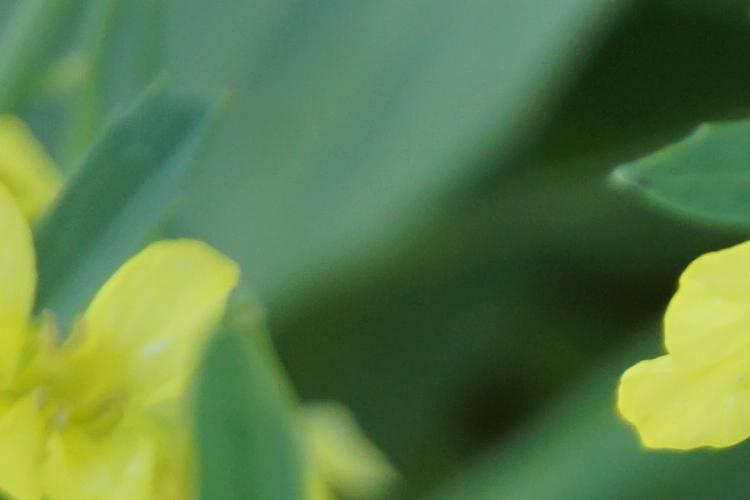yellow: (3, 190, 230, 500), (611, 241, 750, 456)
